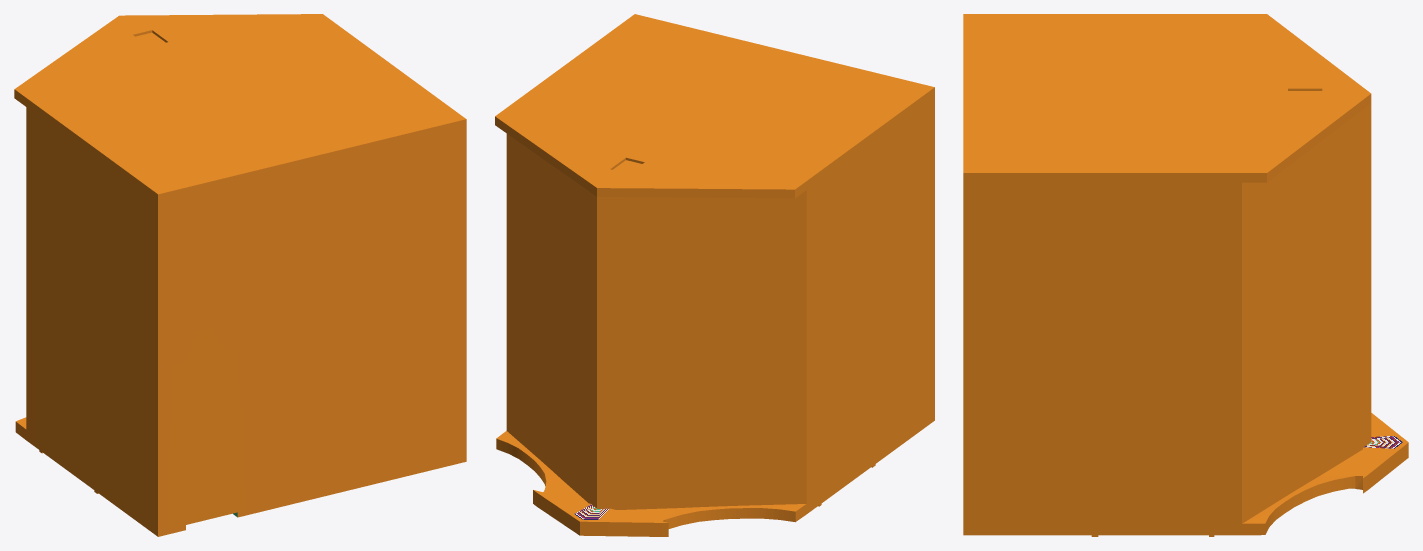
The model's file is Dom_Esterki.obj.
The picture shows the model from 3 angles, left to right: view 1: azimuth 30°, elevation 25°; view 2: azimuth 150°, elevation 25°; view 3: azimuth 270°, elevation 25°; orthographic projection. The views are drawn at different scales.
Parts seen in each view (by area): view 1: Cube_Cube.001; view 2: Cube_Cube.001; view 3: Cube_Cube.001.
Boxes of the visible parts, <box> form: Cube_Cube.001: <box>14,14,466,536</box>; Cube_Cube.001: <box>495,14,934,536</box>; Cube_Cube.001: <box>963,14,1408,536</box>.
Bounding box in the file's own units: 34.45 × 36.76 × 40.77.
